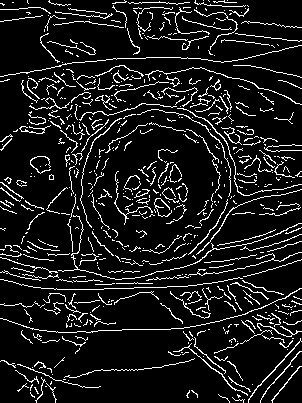cucumber: (60, 78, 240, 271)
